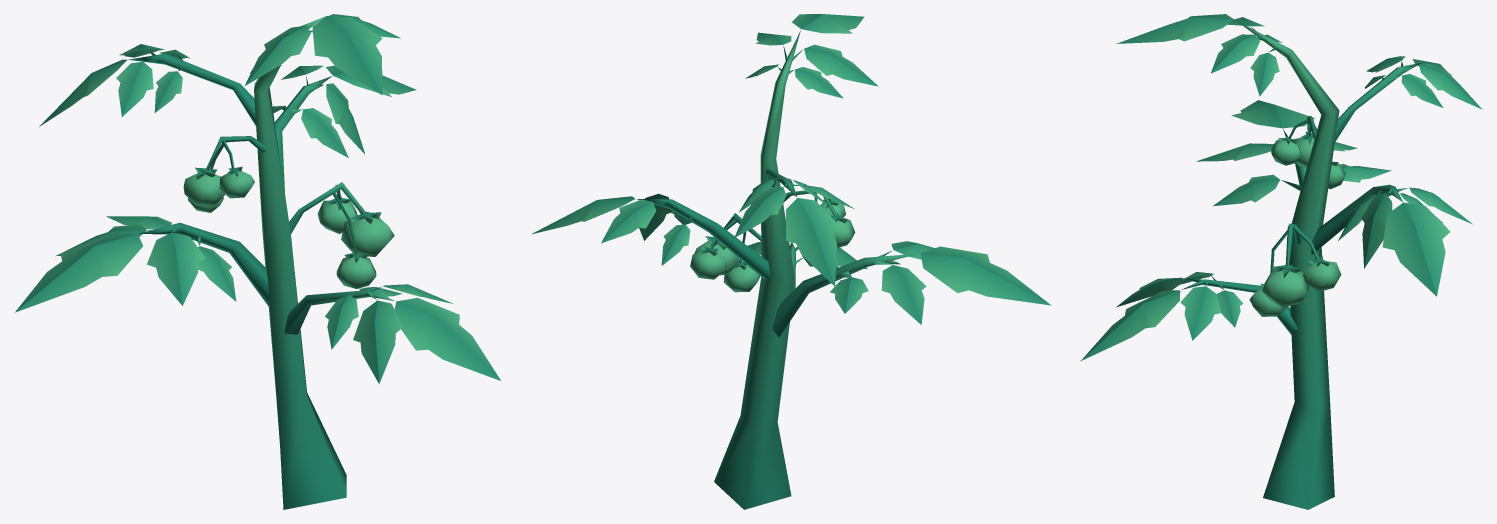
Rendered from TomatoSprout02.glb.
3 views of the same model, side by side, from view 1: azimuth 30°, elevation 25°; view 2: azimuth 150°, elevation 25°; view 3: azimuth 270°, elevation 25° (orthographic). The views are drawn at different scales.
Parts seen in each view (by area): view 1: TomatoSprout02; view 2: TomatoSprout02; view 3: TomatoSprout02.
Boxes of the visible parts, <box> form: TomatoSprout02: <box>15,14,500,509</box>; TomatoSprout02: <box>531,14,1051,509</box>; TomatoSprout02: <box>1080,14,1482,509</box>.
Bounding box in the file's own units: 1.77 × 1.75 × 1.34.
Materials: 1 (1 with a texture image).
